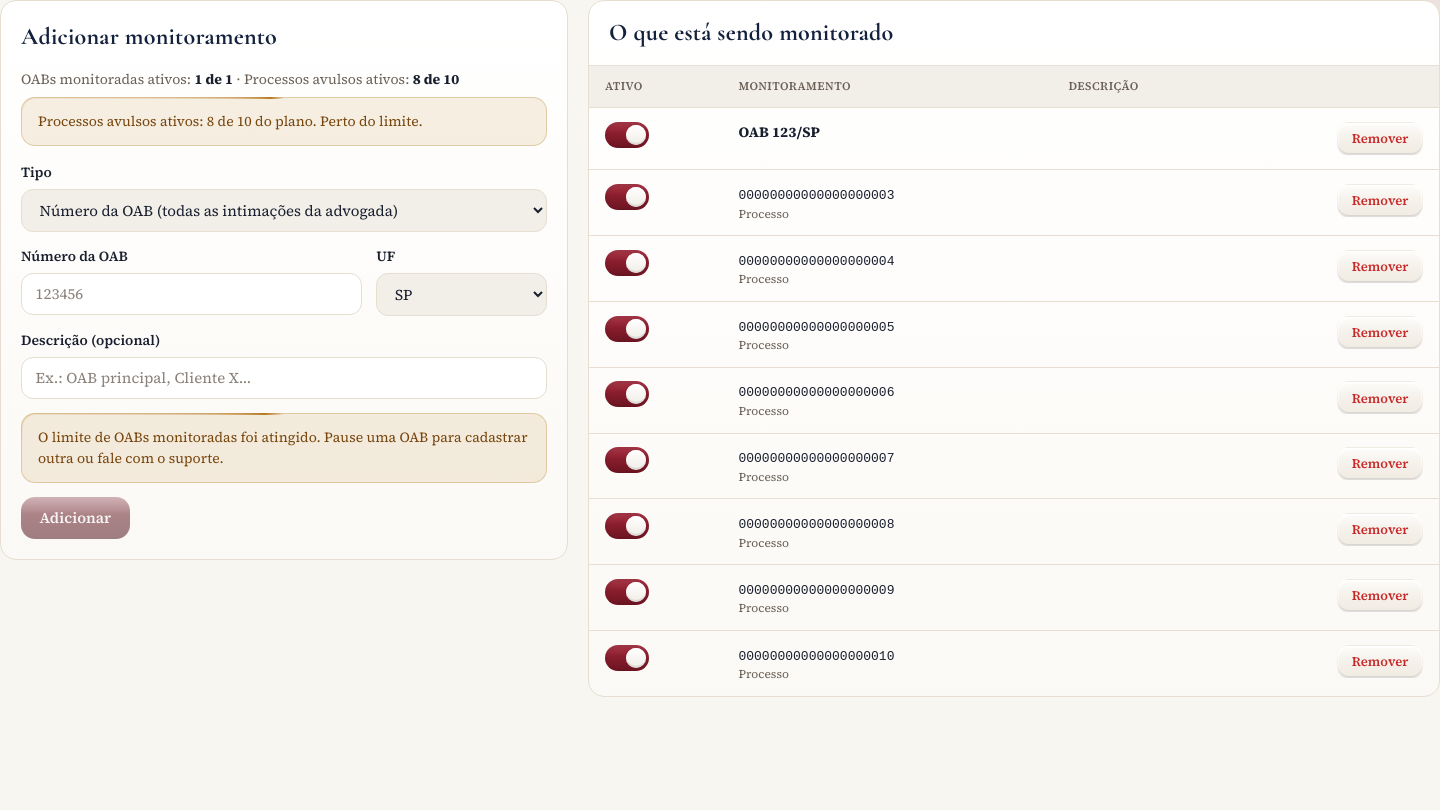
it: tela de Monitoramento com limites do plano › libera processo avulso enquanto houver vaga e avisa a partir de 80%
The image size is (1440, 810).
Select "Processo específico" in the dropdown labelled "Tipo" at (284,210), box [21,189,547,232]
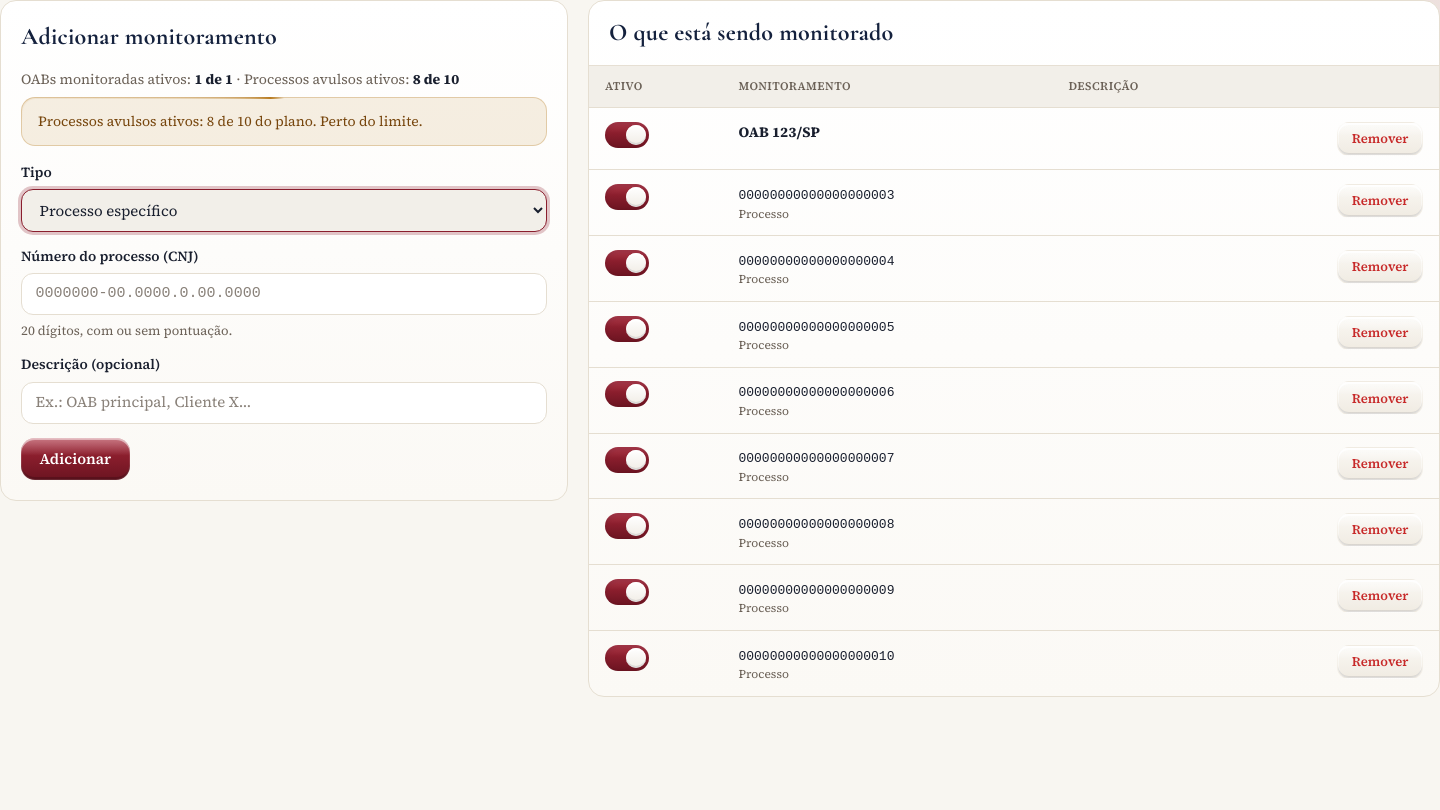
Expected: the text "Processos avulsos ativos: 8 de 10 do plano. Perto do limite." is shown, [21,97,547,146]
Expected: the button "Adicionar" is enabled, [21,438,130,480]
